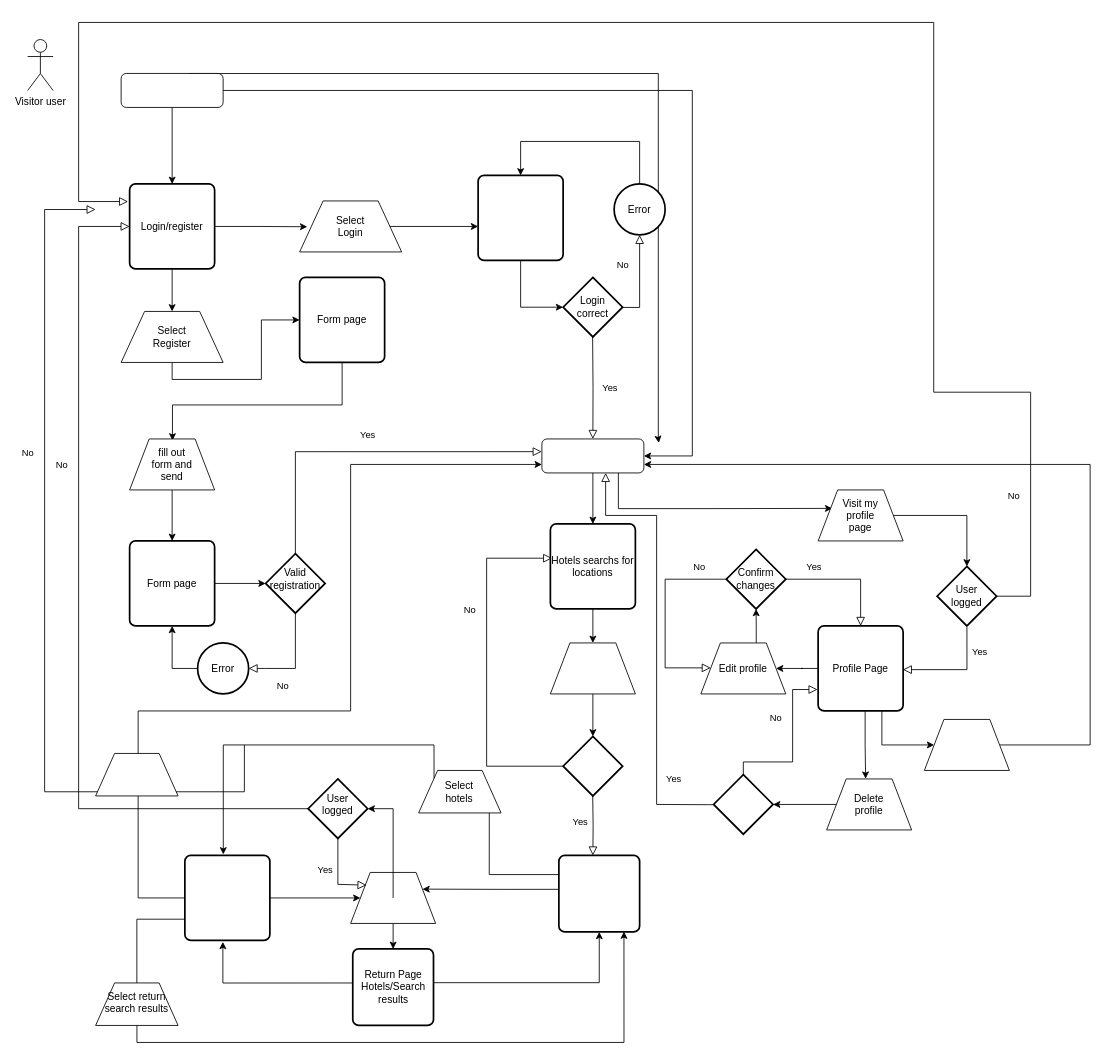
Some shapes in this 1112 by 1064 pixel diagram are drawn without their labels. Each missing label, with the box of its shape:
add a hotel to favorites: (350, 872, 436, 923)
Confirm delete: (712, 773, 774, 835)
fill out filter fields: (550, 642, 635, 694)
Home page: (541, 438, 644, 473)
Login page: (477, 174, 564, 261)
Page Hotel with his events: (184, 854, 270, 941)
Return Home page: (924, 719, 1009, 770)
Search results: (558, 854, 640, 932)
Select return home page: (95, 753, 178, 796)
Valid filter fields: (562, 735, 623, 796)
Welcome page: (120, 73, 223, 107)
